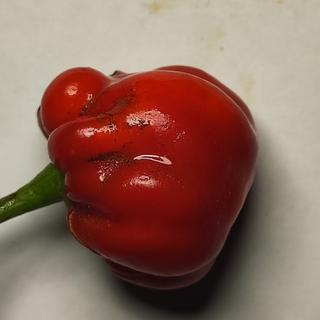Defect: (78, 84, 140, 127), (83, 147, 143, 187)
